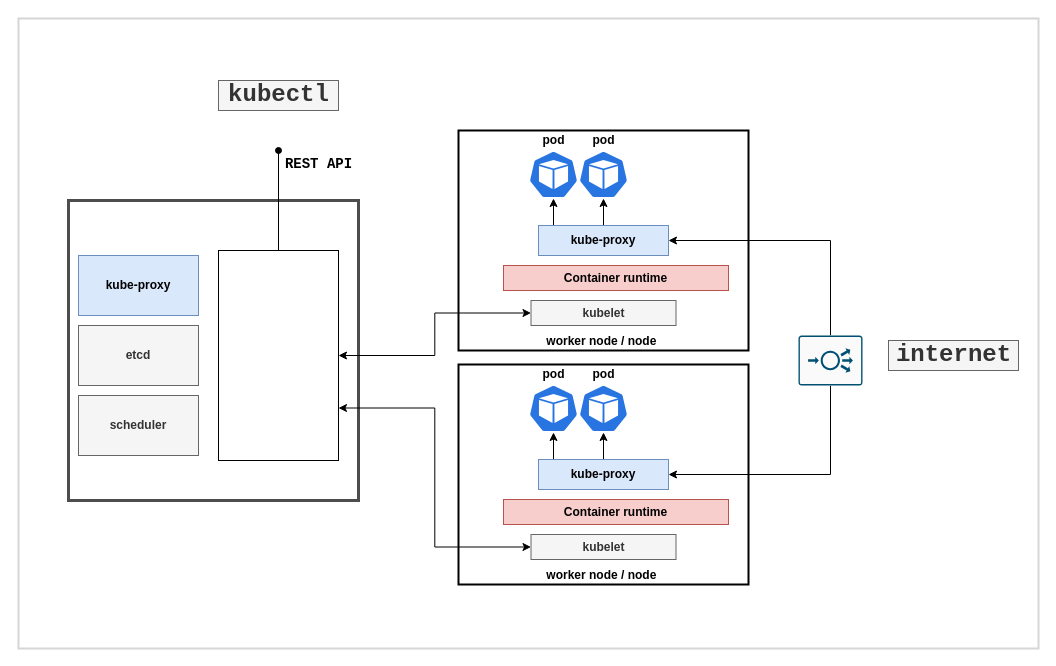
The diagram is 1056 pixels wide and 666 high, and some of its shapes have lost their labels. The box of each missing label's shape, as (x1, y1, x2, y2) in pixels:
Control plan master node: (66, 198, 360, 502)
kube apiserver: (218, 250, 338, 460)
